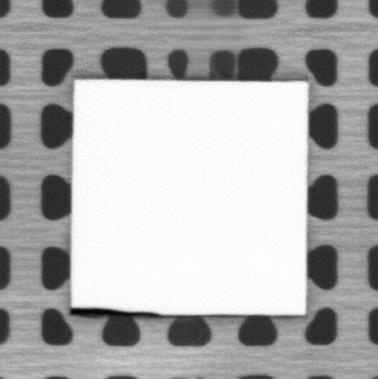DIE_BROKEN: (68, 305, 164, 317)
